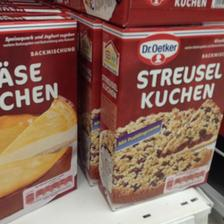Kuchen: (96, 22, 224, 208), (0, 14, 80, 222)
